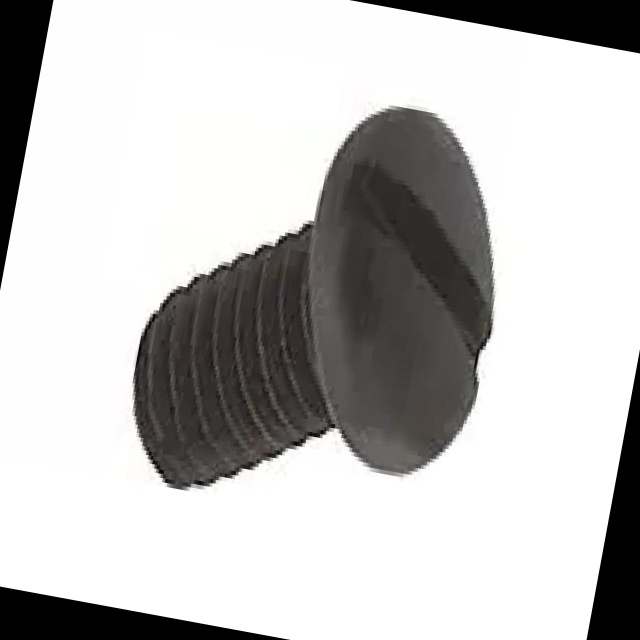duz: (271, 93, 530, 488)
